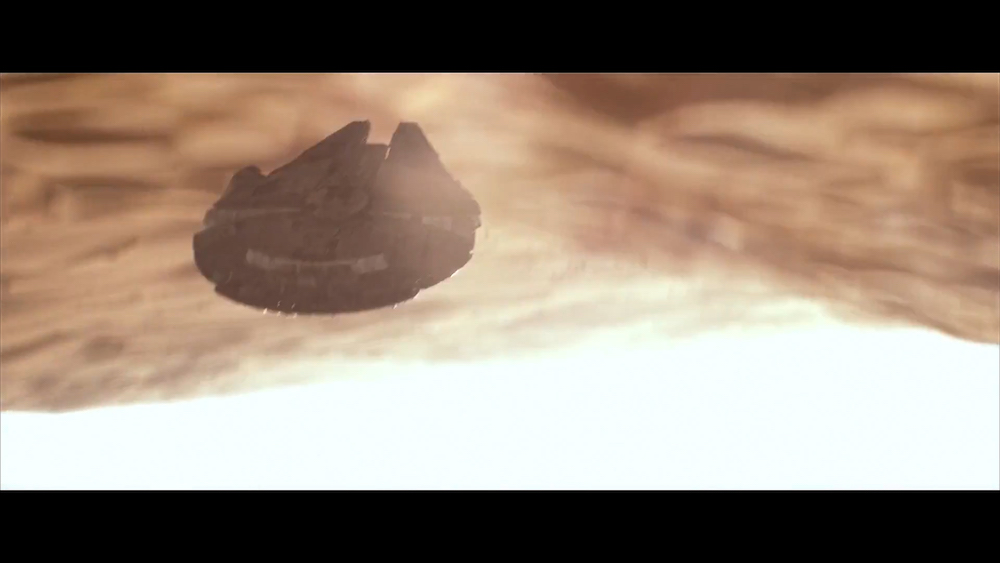Millennium Falcon: (192, 119, 484, 319)
